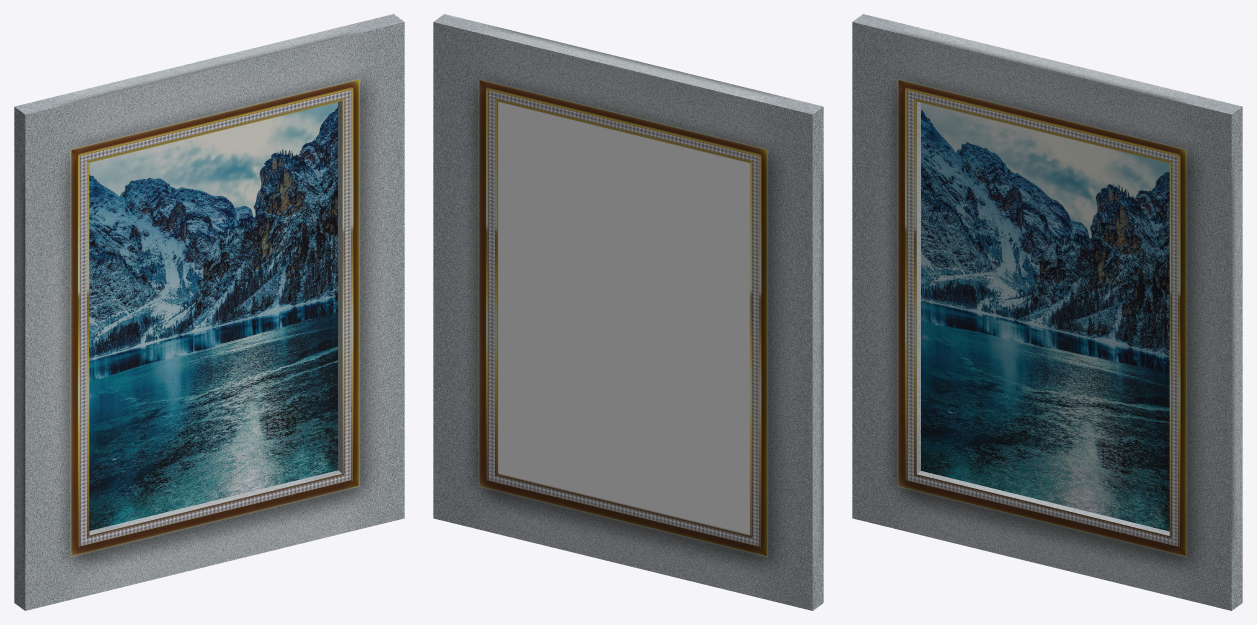
Rendered from Frame_013.FBX.
3 renders of one model, left to right at view 1: azimuth 30°, elevation 25°; view 2: azimuth 150°, elevation 25°; view 3: azimuth 330°, elevation 25°, orthographic.
Parts seen in each view (by area): view 1: Frame_013; view 2: Frame_013; view 3: Frame_013.
Part boxes in pixels (<box>): Frame_013: <box>14,14,404,610</box>; Frame_013: <box>433,14,823,610</box>; Frame_013: <box>852,14,1242,610</box>.
Size of the model in its own units: 700 by 35 by 875.
